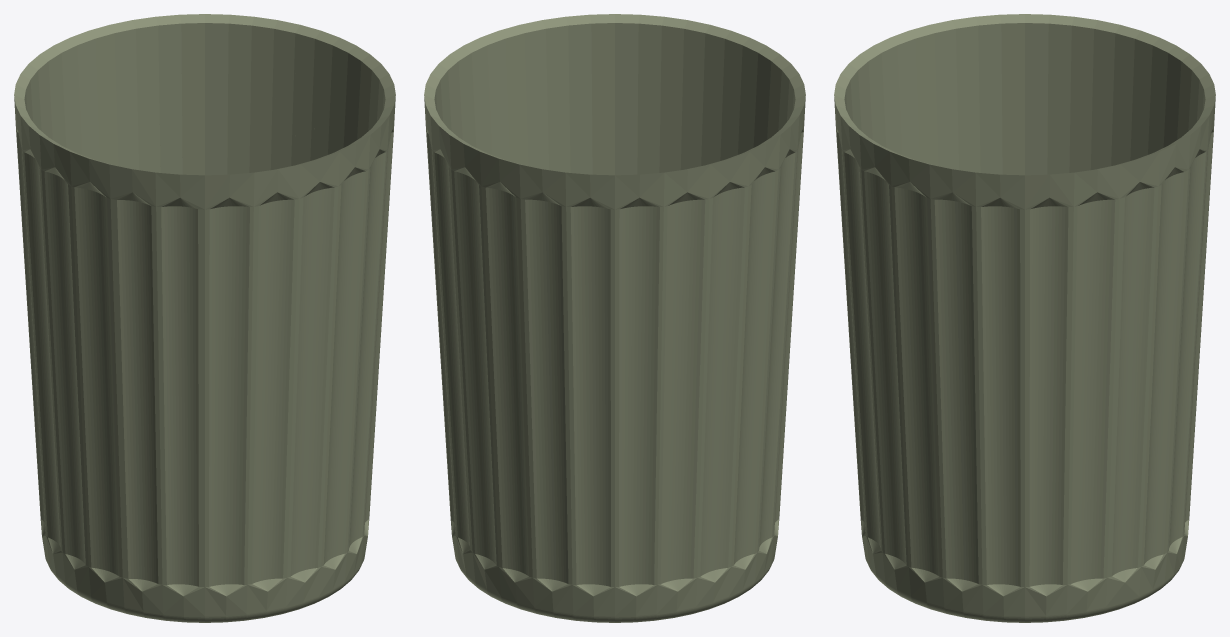
3 renders of one model, left to right at view 1: azimuth 30°, elevation 25°; view 2: azimuth 150°, elevation 25°; view 3: azimuth 270°, elevation 25°, orthographic.
Visible parts, largest first — view 1: mesh1_mesh1-geometry; view 2: mesh1_mesh1-geometry; view 3: mesh1_mesh1-geometry.
Boxes of the visible parts, <box> form: mesh1_mesh1-geometry: <box>14,14,395,622</box>; mesh1_mesh1-geometry: <box>424,14,805,622</box>; mesh1_mesh1-geometry: <box>834,14,1215,622</box>.
Bounding box in the file's own units: 0.5129 × 0.6884 × 0.5129.
